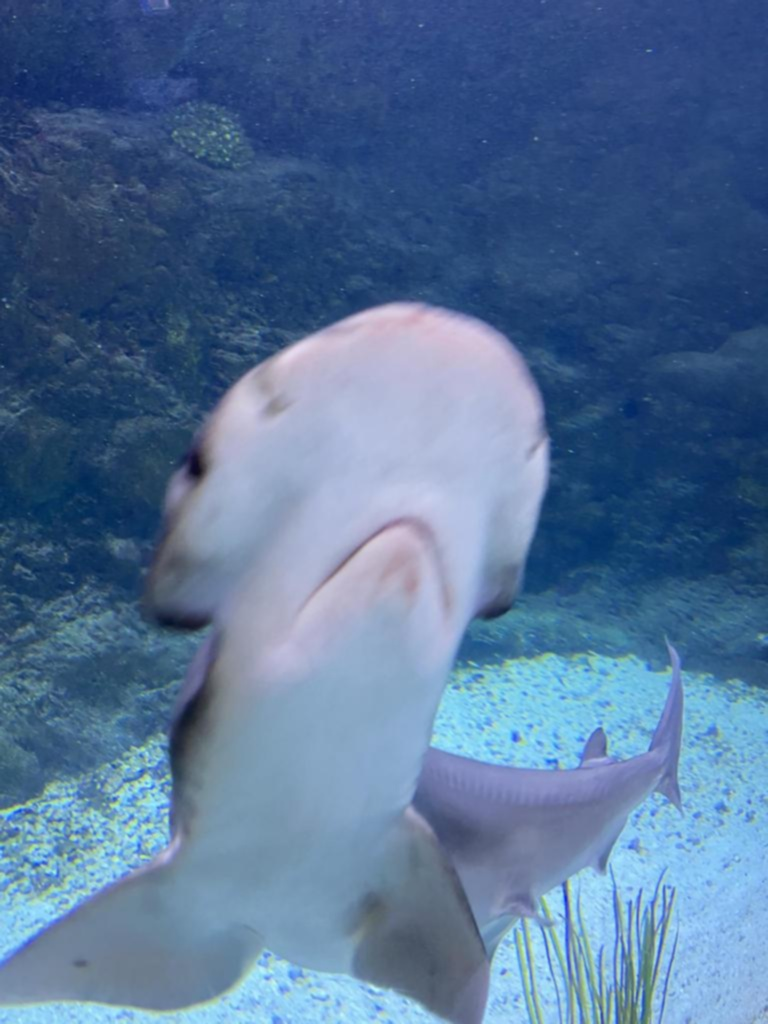shark: (0, 301, 685, 1024)
